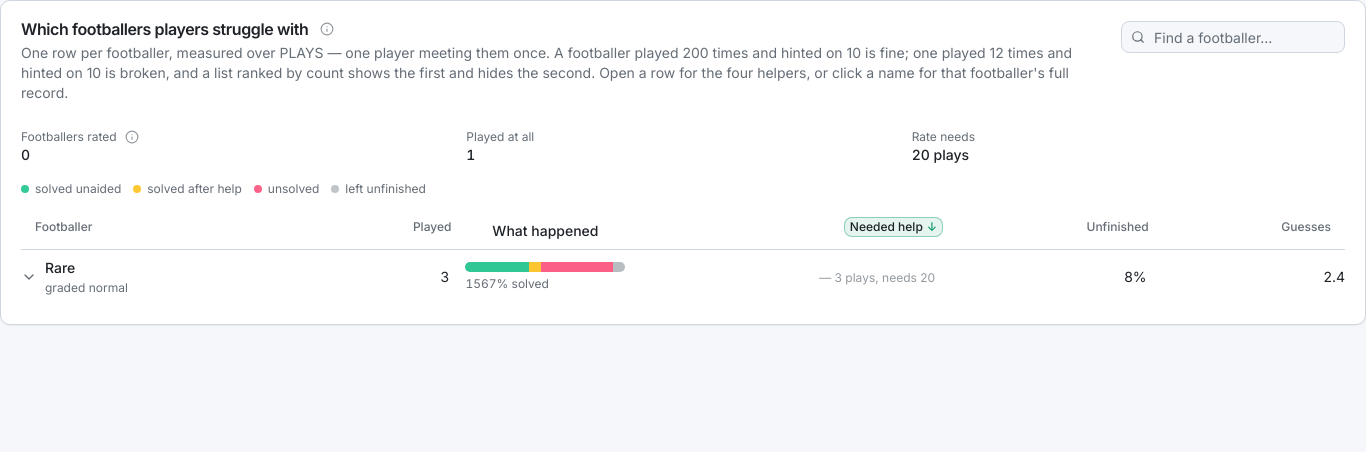
Scenario: footballerContent › withholds a rate below the threshold and keeps the counts
Expected: the text "— 3 plays, needs 20" is shown, 819,270 -> 935,285
Expected: the cell "3" is shown, 309,250 -> 465,304
Click the button named "Show how Rare was helped". click: (29, 277)
box: 17,265 -> 41,289
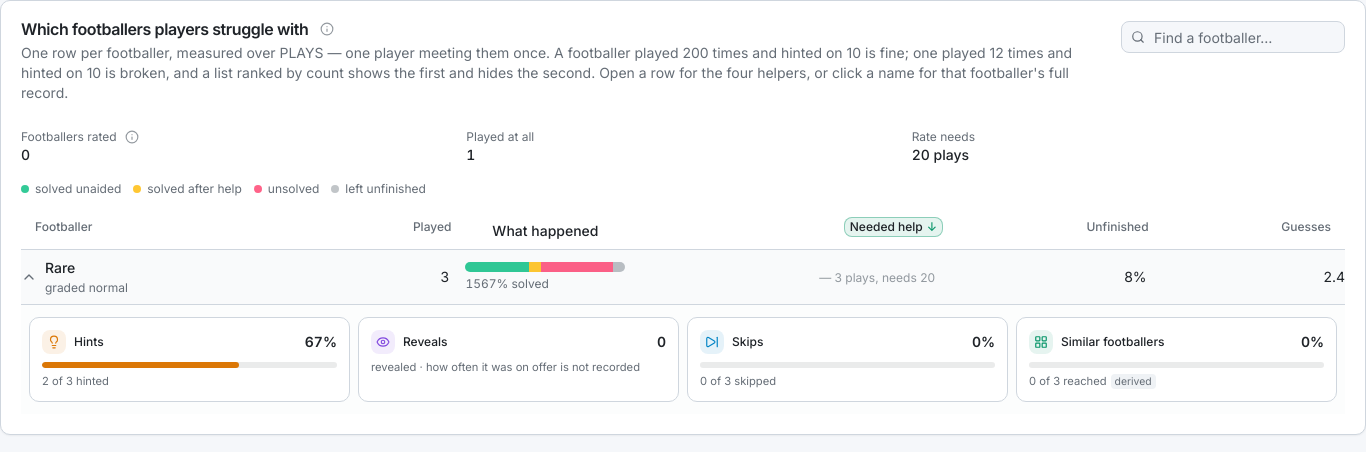
Expected: the text "2 of 3 hinted" is shown, 42,374 -> 109,388
